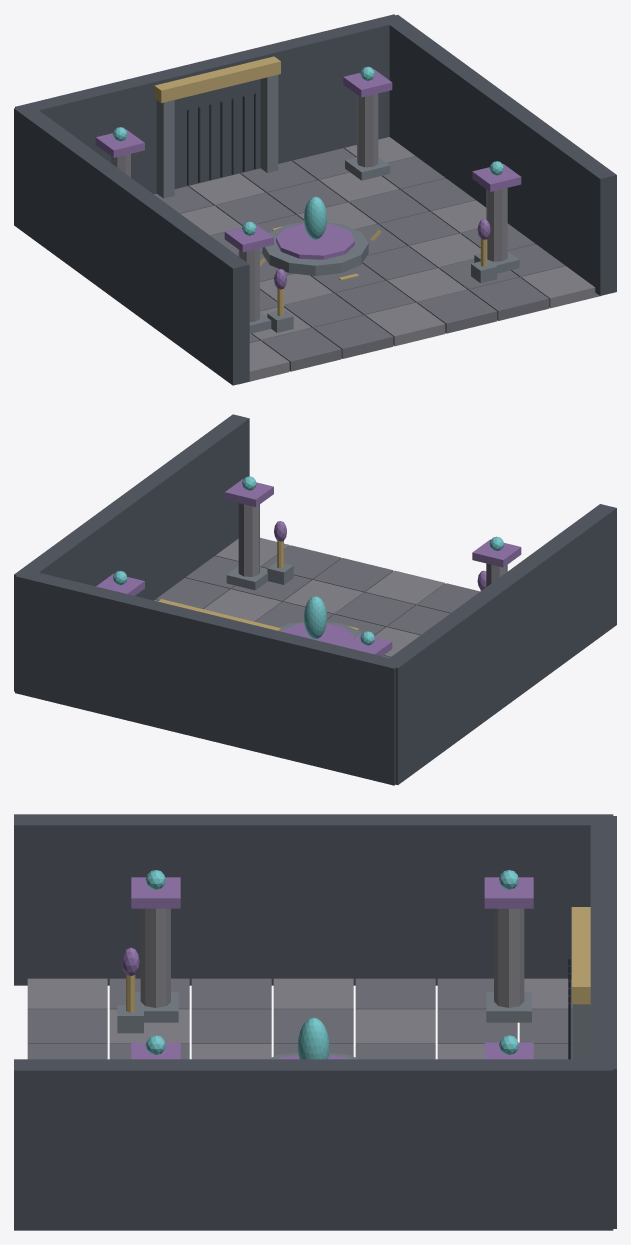
File: environment_crypt_of_ash.glb
3 views of the same model, one above another, from view 1: azimuth 30°, elevation 25°; view 2: azimuth 150°, elevation 25°; view 3: azimuth 270°, elevation 25° (orthographic). The views are drawn at different scales.
Parts seen in each view (by area): view 1: crypt_left_wall, crypt_right_wall, crypt_back_wall, crypt_gate_top, ritual_dais, ritual_dais_top, crypt_tile_3_6, crypt_tile_4_6, crypt_tile_1_6, crypt_tile_5_6, crypt_tile_2_6, crypt_tile_6_6 (+39 smaller); view 2: crypt_back_wall, crypt_left_wall, crypt_right_wall, crypt_tile_3_6, crypt_tile_4_6, crypt_tile_3_5, crypt_column_3, crypt_tile_5_4, crypt_tile_4_5, crypt_tile_5_6, crypt_tile_6_4, crypt_tile_2_5 (+13 smaller); view 3: crypt_right_wall, crypt_left_wall, crypt_back_wall, crypt_column_1, crypt_column, crypt_tile_1_2, crypt_tile_1_4, crypt_tile_1_6, crypt_tile_0_2, crypt_tile_0_3, crypt_tile_0_4, crypt_tile_0_6 (+22 smaller).
Boxes of the visible parts, <box> form: crypt_left_wall: <box>14,105,249,385</box>; crypt_right_wall: <box>381,15,616,295</box>; crypt_back_wall: <box>15,14,403,194</box>; crypt_gate_top: <box>154,56,280,102</box>; ritual_dais: <box>262,222,368,275</box>; ritual_dais_top: <box>276,223,354,259</box>; crypt_tile_3_6: <box>365,302,445,346</box>; crypt_tile_4_6: <box>417,290,497,333</box>; crypt_tile_1_6: <box>261,328,341,371</box>; crypt_tile_5_6: <box>469,277,549,320</box>; crypt_tile_2_6: <box>313,315,393,358</box>; crypt_tile_6_6: <box>521,266,600,308</box>; crypt_back_wall: <box>15,569,401,785</box>; crypt_left_wall: <box>383,504,616,784</box>; crypt_right_wall: <box>14,414,249,691</box>; crypt_tile_3_6: <box>365,570,445,605</box>; crypt_tile_4_6: <box>313,558,393,592</box>; crypt_tile_3_5: <box>335,592,415,627</box>; crypt_column_3: <box>238,503,259,576</box>; crypt_tile_5_4: <box>204,589,281,621</box>; crypt_tile_4_5: <box>283,580,363,614</box>; crypt_tile_5_6: <box>262,545,341,580</box>; crypt_tile_6_4: <box>155,578,229,609</box>; crypt_tile_2_5: <box>387,605,450,635</box>; crypt_right_wall: <box>14,1059,613,1230</box>; crypt_left_wall: <box>14,814,613,985</box>; crypt_back_wall: <box>590,816,616,1228</box>; crypt_column_1: <box>140,908,170,1007</box>; crypt_column: <box>494,908,524,1007</box>; crypt_tile_1_2: <box>355,1009,435,1043</box>; crypt_tile_1_4: <box>191,1009,271,1043</box>; crypt_tile_1_6: <box>27,1009,107,1043</box>; crypt_tile_0_2: <box>355,978,435,1009</box>; crypt_tile_0_3: <box>273,978,353,1009</box>; crypt_tile_0_4: <box>191,978,271,1009</box>; crypt_tile_0_6: <box>27,978,107,1009</box>.
Bounding box in the file's own units: 9.62 × 2.92 × 9.56.
